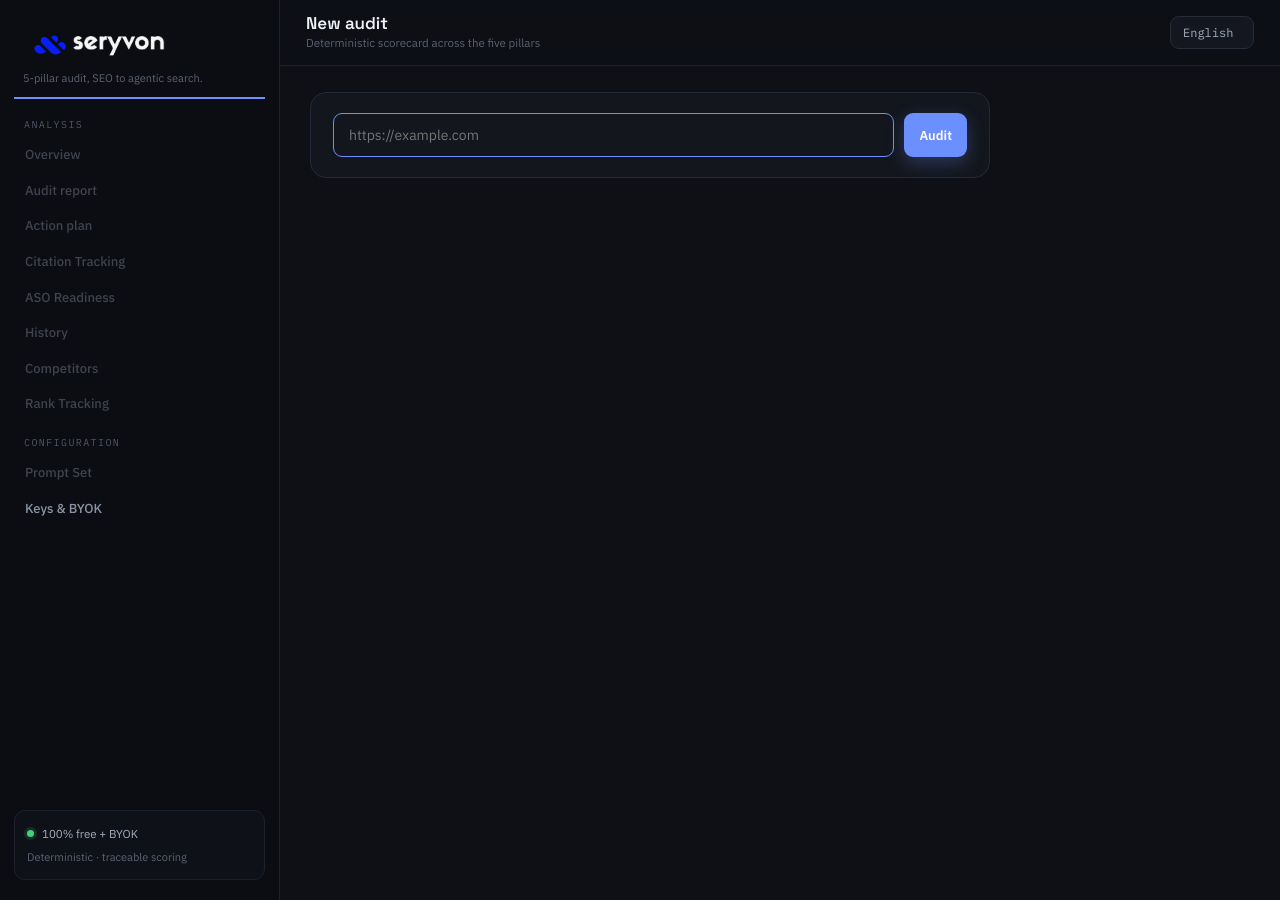
shows the backend error when audit creation fails
Type "example.com" into the field named "URL".
click(614, 135); type("example.com")  # box [333,113,894,157]
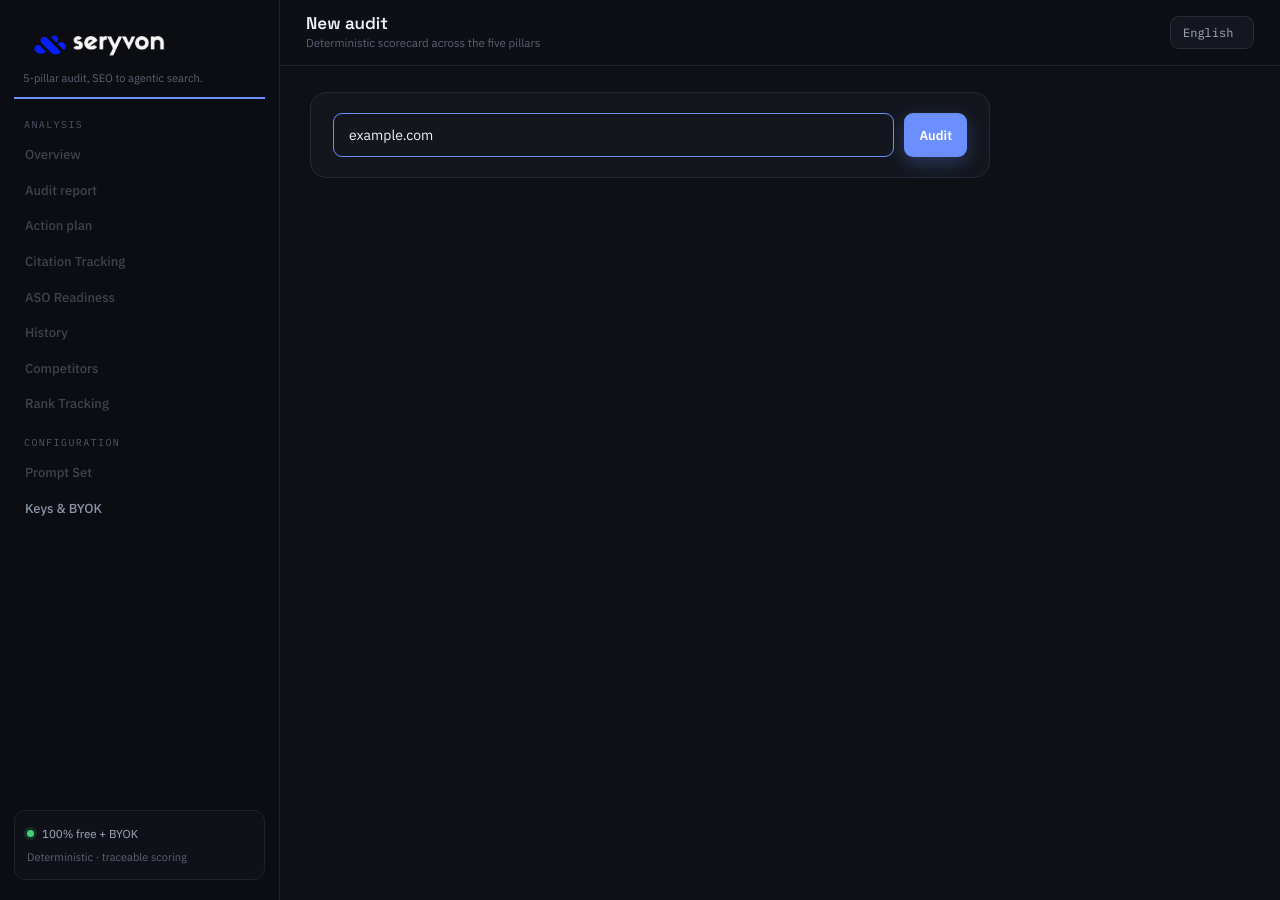
Click the button with class "home-audit-btn".
click(936, 135)  # box [904,113,967,157]
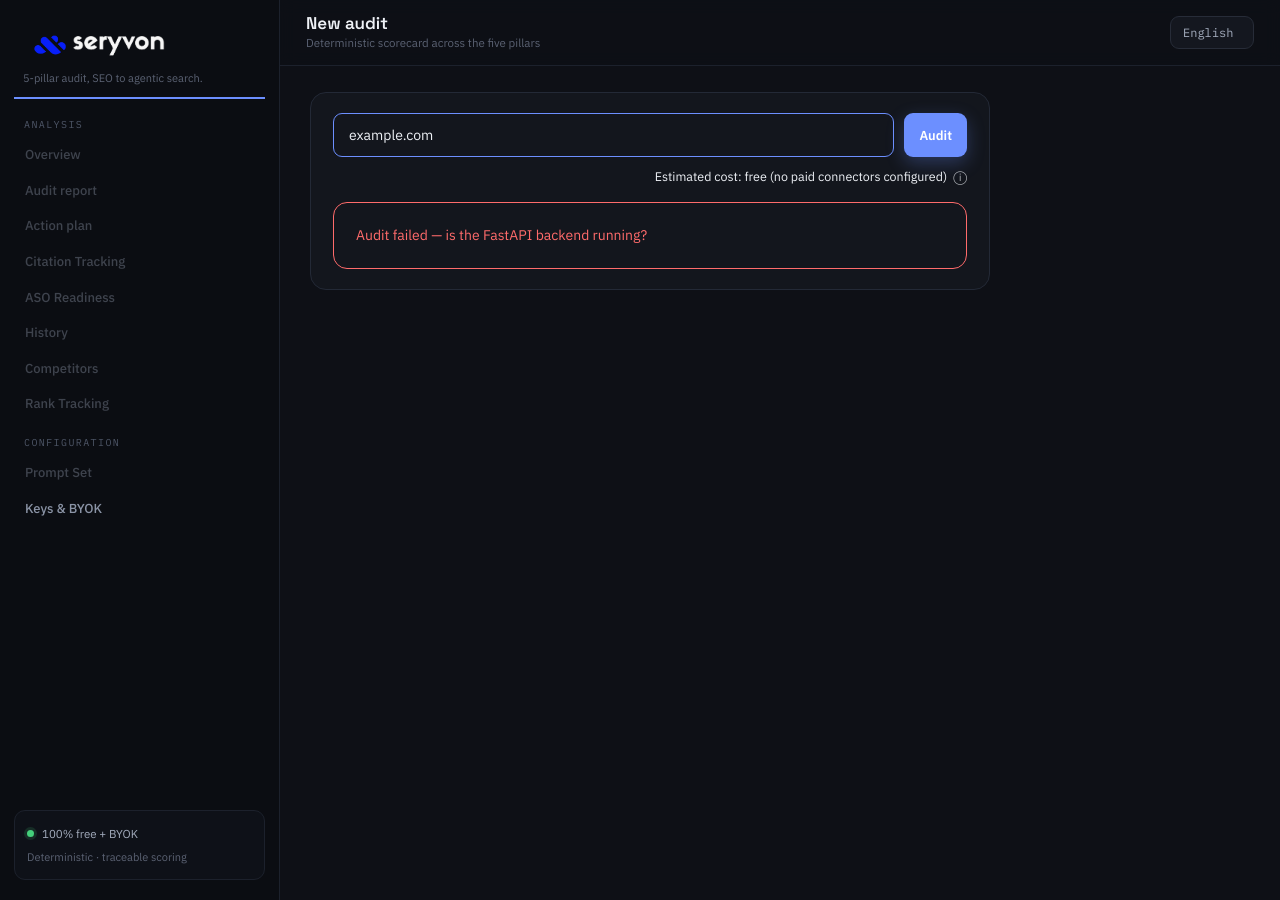
Check: the text "Audit failed — is the FastAPI backend running?" is shown, box [333,202,967,269]
